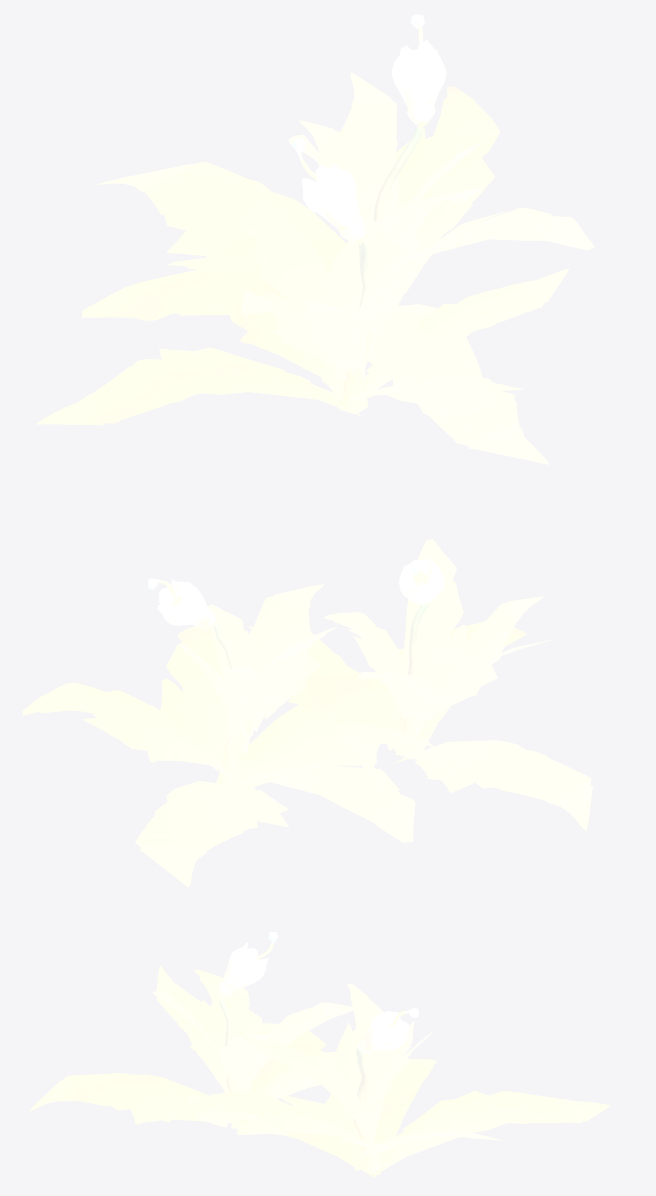
3 renders of one model, top to bottom at view 1: azimuth 30°, elevation 25°; view 2: azimuth 150°, elevation 25°; view 3: azimuth 270°, elevation 25°, orthographic. The views are drawn at different scales.
Visible parts, largest first — view 1: SM_DR_Fox_Glove_03_LOD0; view 2: SM_DR_Fox_Glove_03_LOD0; view 3: SM_DR_Fox_Glove_03_LOD0.
Part boxes in pixels (x1,y1,x2,y2): SM_DR_Fox_Glove_03_LOD0: (36,14,594,464); SM_DR_Fox_Glove_03_LOD0: (22,539,593,886); SM_DR_Fox_Glove_03_LOD0: (29,932,610,1177).
Bounding box in the file's own units: 0.569 × 0.2358 × 0.7129.
1 material, 1 textured.
